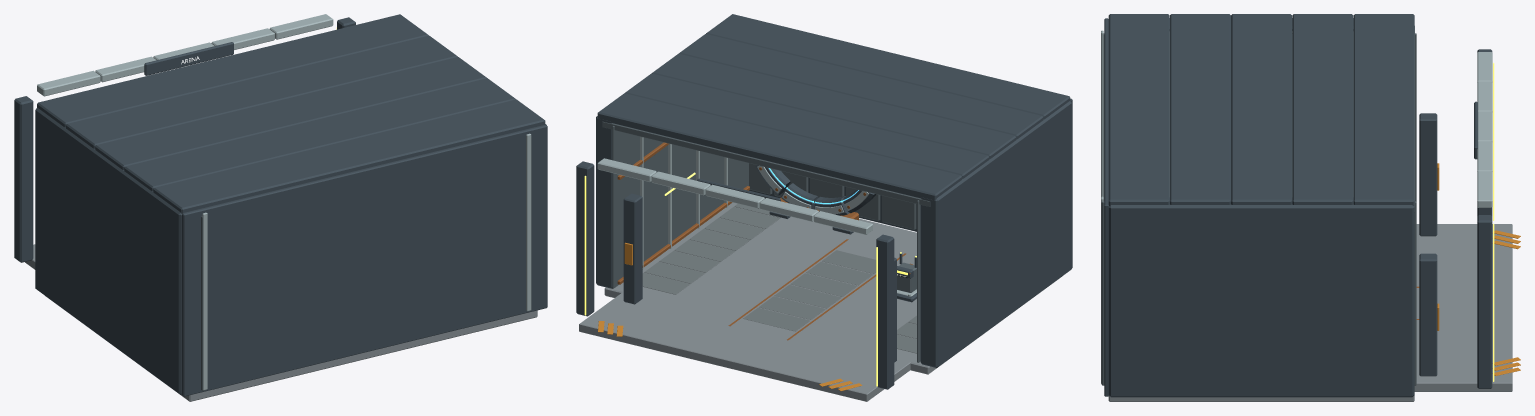
File: e12g-titan-retry-alcove.glb
3 views of the same model, side by side, from view 1: azimuth 30°, elevation 25°; view 2: azimuth 150°, elevation 25°; view 3: azimuth 270°, elevation 25° (orthographic). The views are drawn at different scales.
Parts seen in each view (by area): view 1: 01 Alcove shell, 04 Fog threshold surround; view 2: 01 Alcove shell, 04 Fog threshold surround, 03 Exit portal, 02 Inner checkpoint; view 3: 01 Alcove shell, 04 Fog threshold surround.
Boxes of the visible parts, left/top/right/bottom form: 01 Alcove shell: left=25, top=14, right=547, bottom=401; 04 Fog threshold surround: left=14, top=14, right=355, bottom=262; 01 Alcove shell: left=579, top=14, right=1072, bottom=401; 04 Fog threshold surround: left=576, top=158, right=894, bottom=389; 03 Exit portal: left=755, top=165, right=876, bottom=234; 02 Inner checkpoint: left=897, top=252, right=916, bottom=302; 01 Alcove shell: left=1101, top=14, right=1520, bottom=401; 04 Fog threshold surround: left=1474, top=49, right=1494, bottom=388.
Size of the model in its own units: 19 by 9.66 by 17.83.
